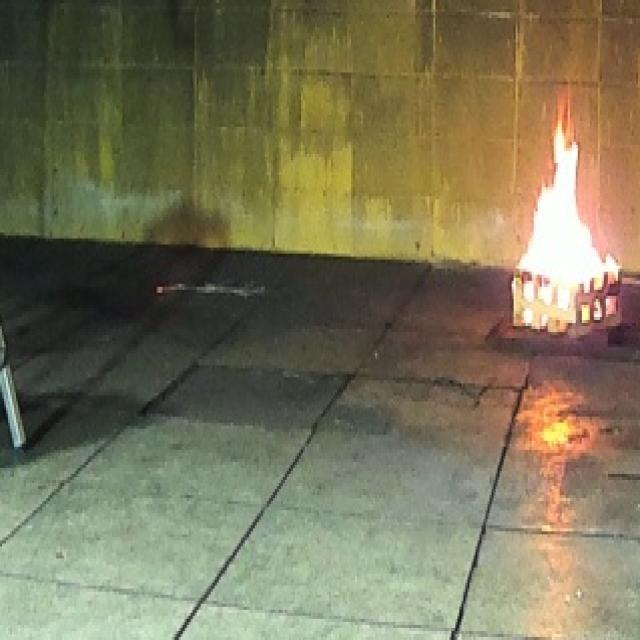Fire: (512, 84, 622, 333)
